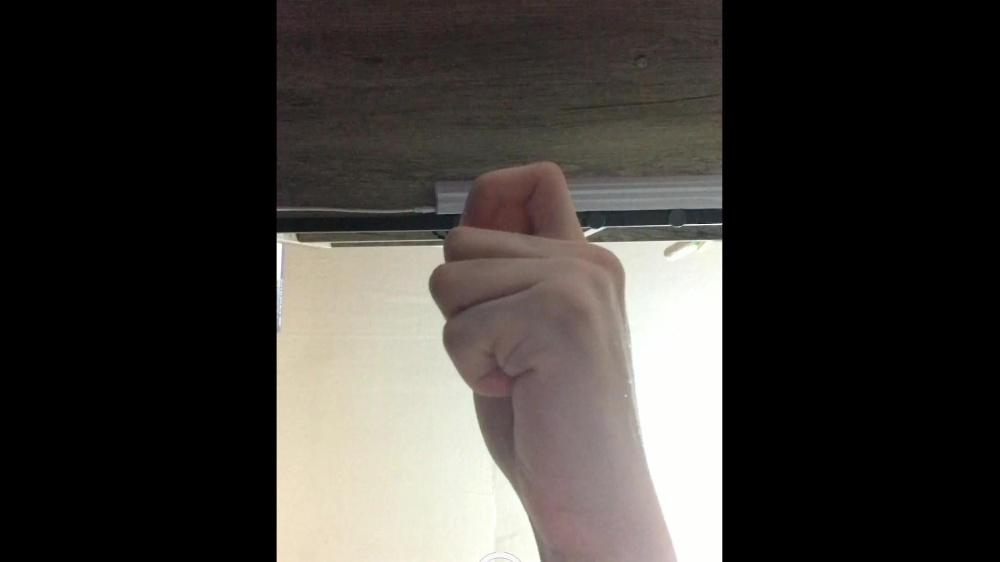t: (429, 163, 638, 488)
